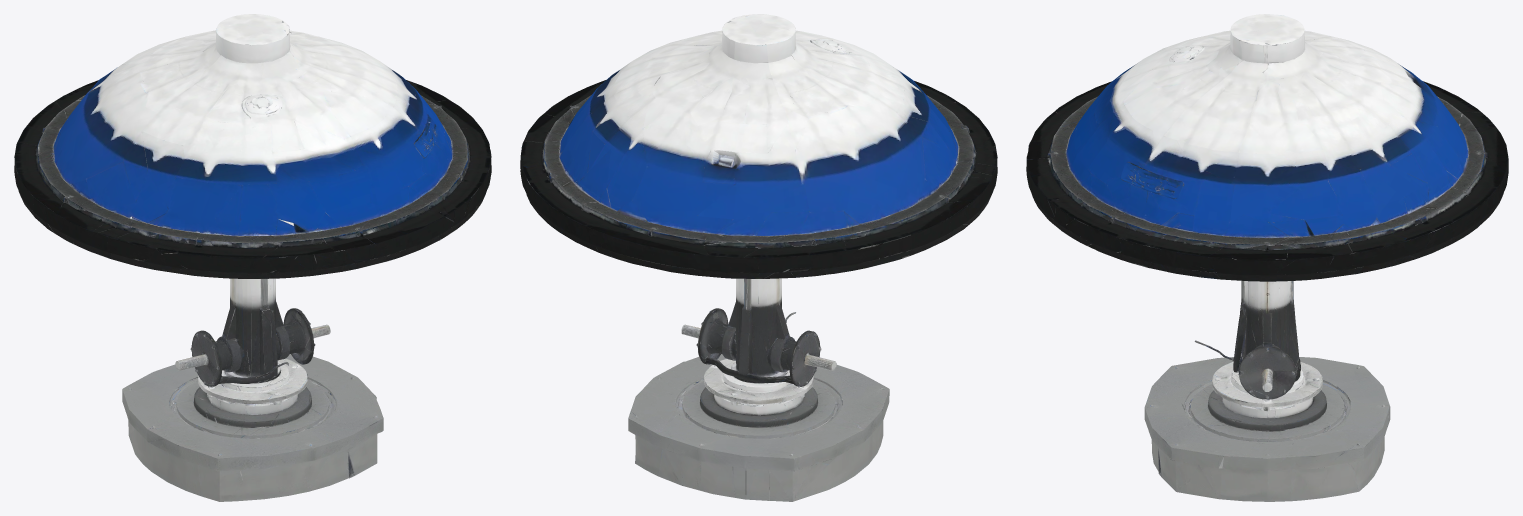
File: chair_bullwheel.glb
The picture shows the model from 3 angles, left to right: view 1: azimuth 30°, elevation 25°; view 2: azimuth 150°, elevation 25°; view 3: azimuth 270°, elevation 25°; orthographic projection.
Bounding box in the file's own units: 1.9 × 1.85 × 1.9.
1 material, 1 textured.
